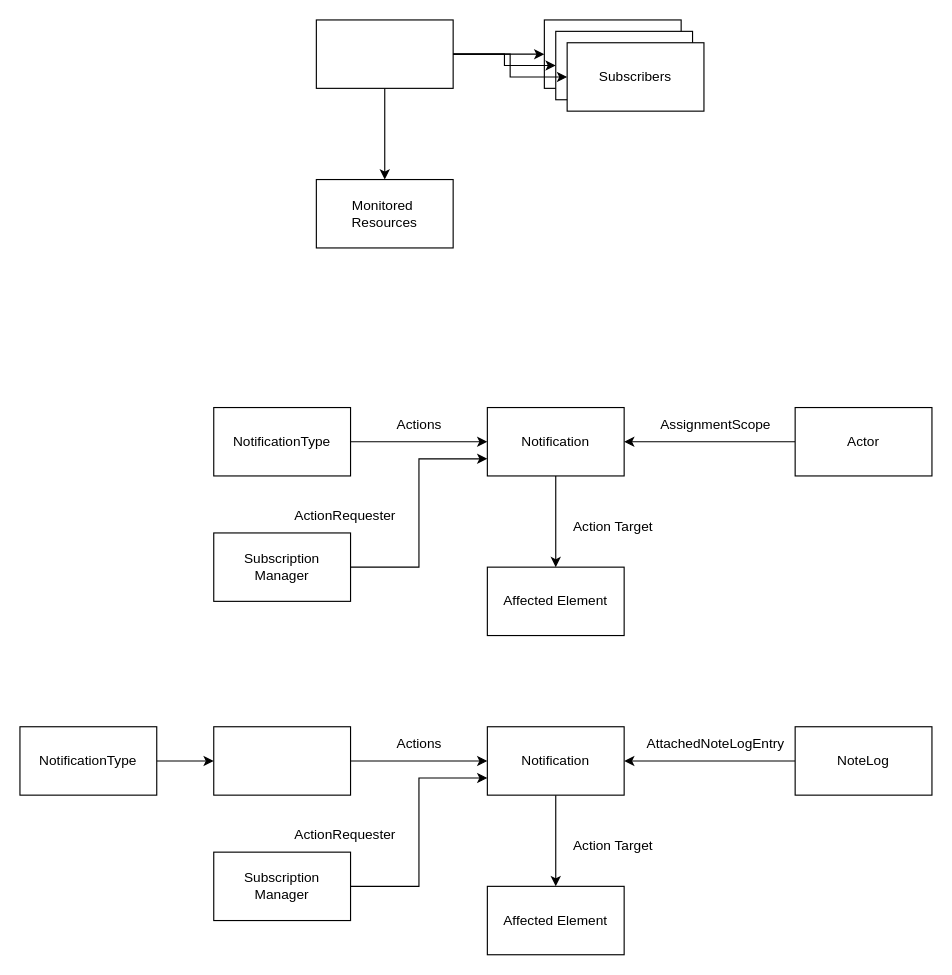
Some shapes in this 952 by 975 pixel diagram are drawn without their labels. The shapes that lost their labels are listed below. From the top down, each one's centre as x and y in pixels, then its label:
point (384, 53): Notification Type
point (282, 760): Context Event
